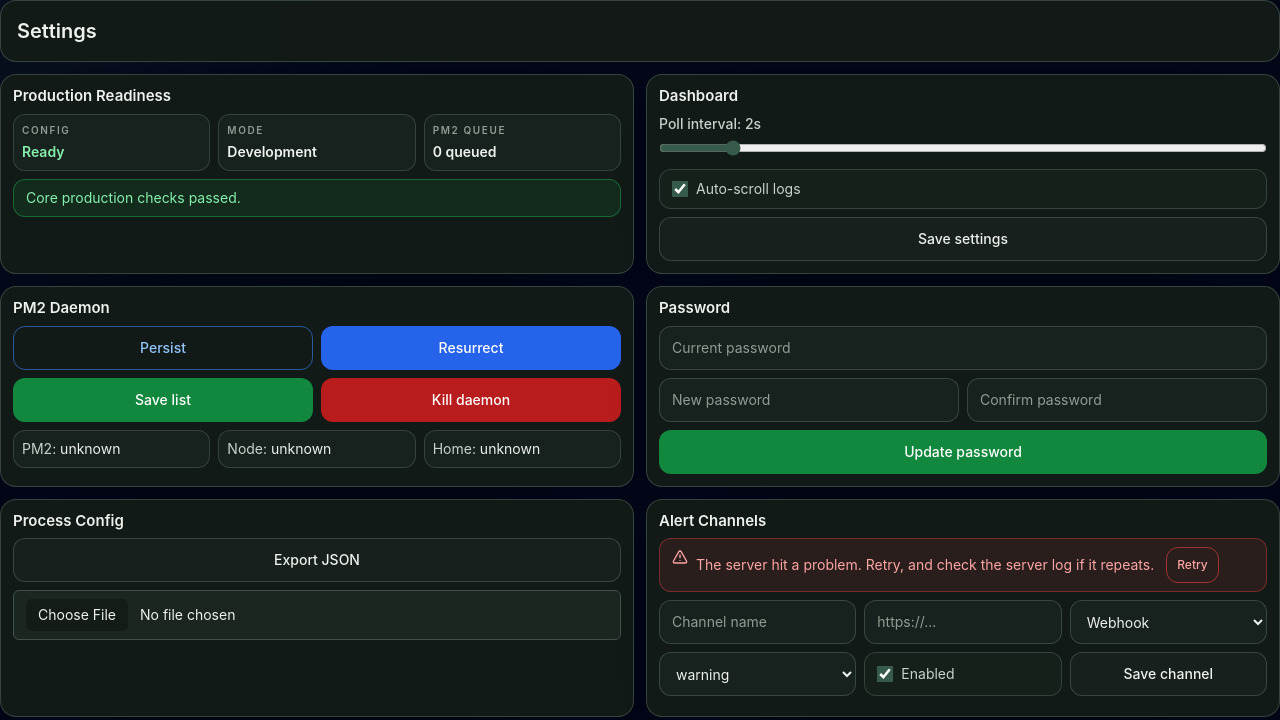
it: Settings alert channel loading › recovers on retry
This screenshot has width=1280, height=720.
Step 1. Click the button "Retry" → (1192, 565), box [1166,547,1219,583]
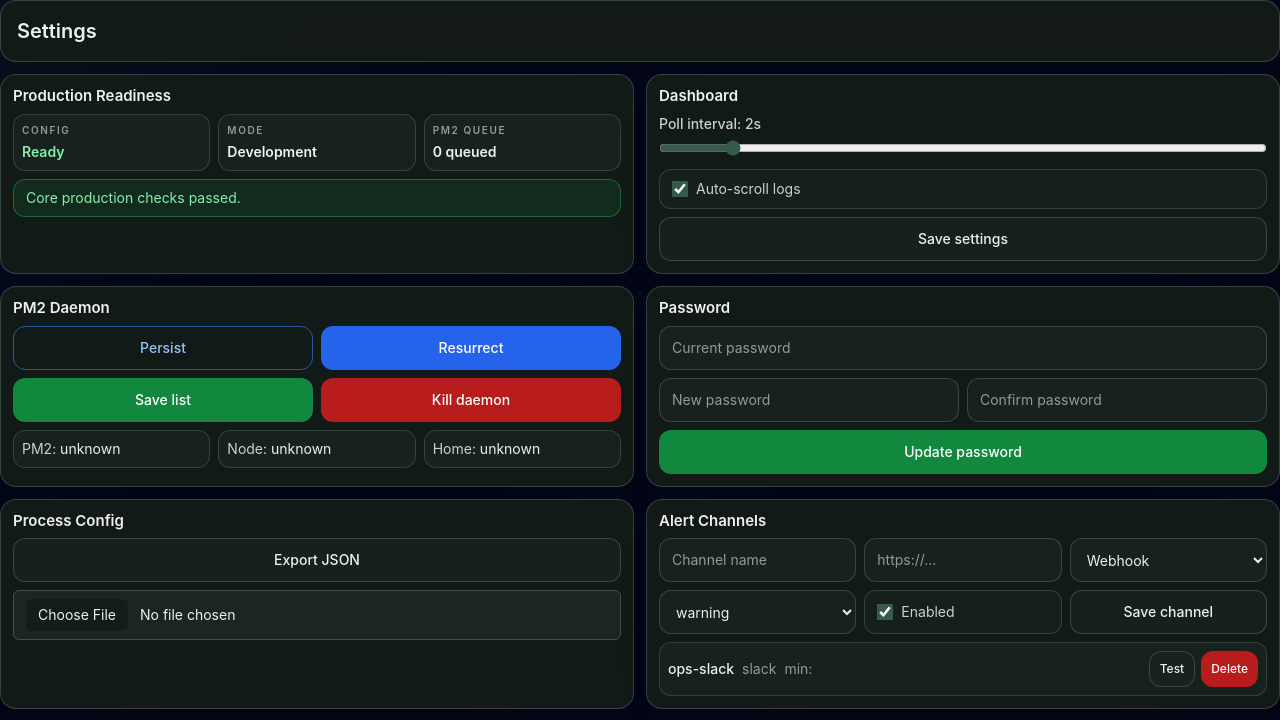
Check: the text "ops-slack" is shown, box [668,659,734,679]
Check: the text "Retry" is gone
